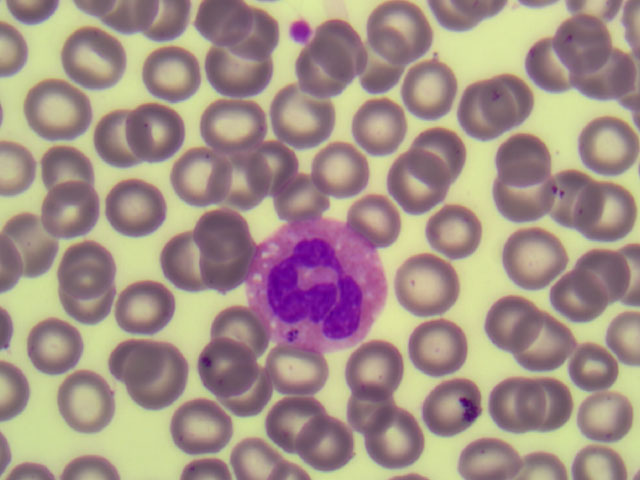Platelets: (288, 13, 317, 43)
RBC: (291, 419, 359, 480), (61, 29, 129, 89), (28, 74, 96, 134), (86, 112, 154, 172), (128, 100, 196, 160), (141, 43, 209, 103), (186, 1, 254, 61), (223, 2, 291, 62), (208, 48, 276, 108), (196, 90, 264, 150), (242, 131, 310, 191), (219, 151, 287, 211), (176, 146, 244, 206), (104, 178, 172, 238), (40, 181, 108, 241), (36, 146, 104, 206), (47, 234, 115, 294), (48, 264, 116, 324), (109, 270, 177, 330), (153, 234, 221, 294), (186, 242, 254, 302), (202, 192, 270, 252), (265, 167, 333, 227), (313, 137, 381, 197), (340, 91, 408, 151), (271, 85, 339, 145), (284, 47, 352, 107), (306, 12, 374, 72), (346, 42, 414, 102), (403, 63, 471, 123), (410, 126, 478, 186), (383, 152, 451, 212), (436, 86, 504, 146), (465, 70, 533, 130), (510, 40, 578, 100), (539, 9, 607, 69), (572, 53, 640, 113), (572, 124, 640, 184), (572, 184, 640, 244), (542, 164, 610, 224), (485, 173, 553, 233), (487, 131, 555, 191), (433, 197, 501, 257), (400, 242, 468, 302), (402, 308, 470, 368), (423, 375, 491, 435), (461, 377, 529, 437), (521, 377, 589, 437), (559, 336, 627, 396), (571, 377, 639, 437), (516, 314, 584, 374), (483, 287, 551, 347), (540, 272, 608, 332), (572, 240, 640, 300), (503, 226, 571, 286), (368, 414, 436, 474), (342, 380, 410, 440), (351, 331, 419, 391), (267, 404, 335, 464), (269, 337, 337, 397), (167, 394, 235, 454), (220, 362, 288, 422), (198, 336, 266, 396), (210, 297, 278, 357), (140, 353, 208, 413), (105, 335, 173, 395), (49, 370, 117, 430), (28, 320, 96, 380), (1, 207, 68, 267), (358, 1, 426, 60), (459, 437, 517, 480)
WBC: (251, 222, 386, 341)
